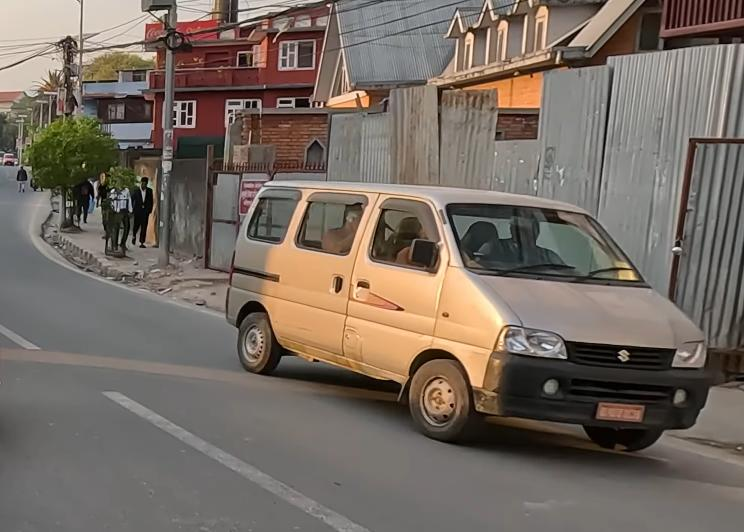van: (225, 171, 722, 464)
